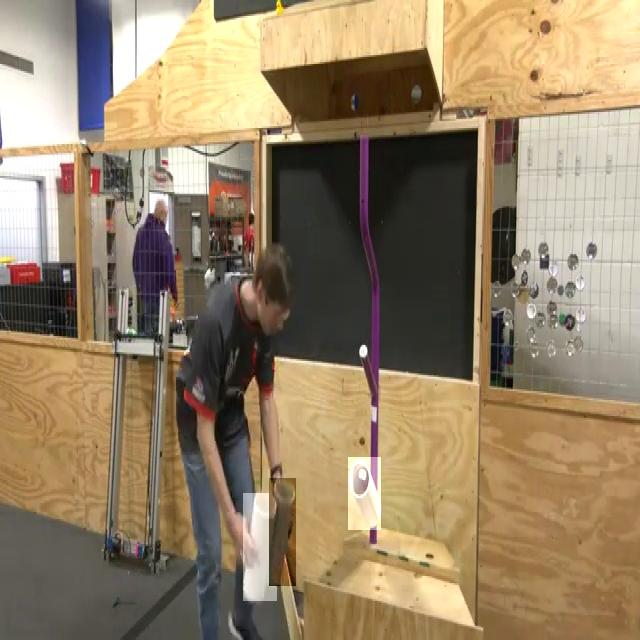Coral: (243, 493, 277, 601), (269, 478, 296, 586), (348, 457, 381, 530)
